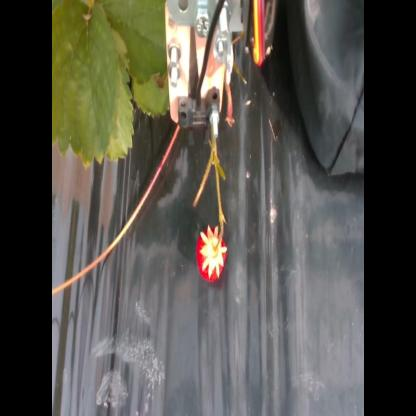ripe: (196, 226, 230, 280)
